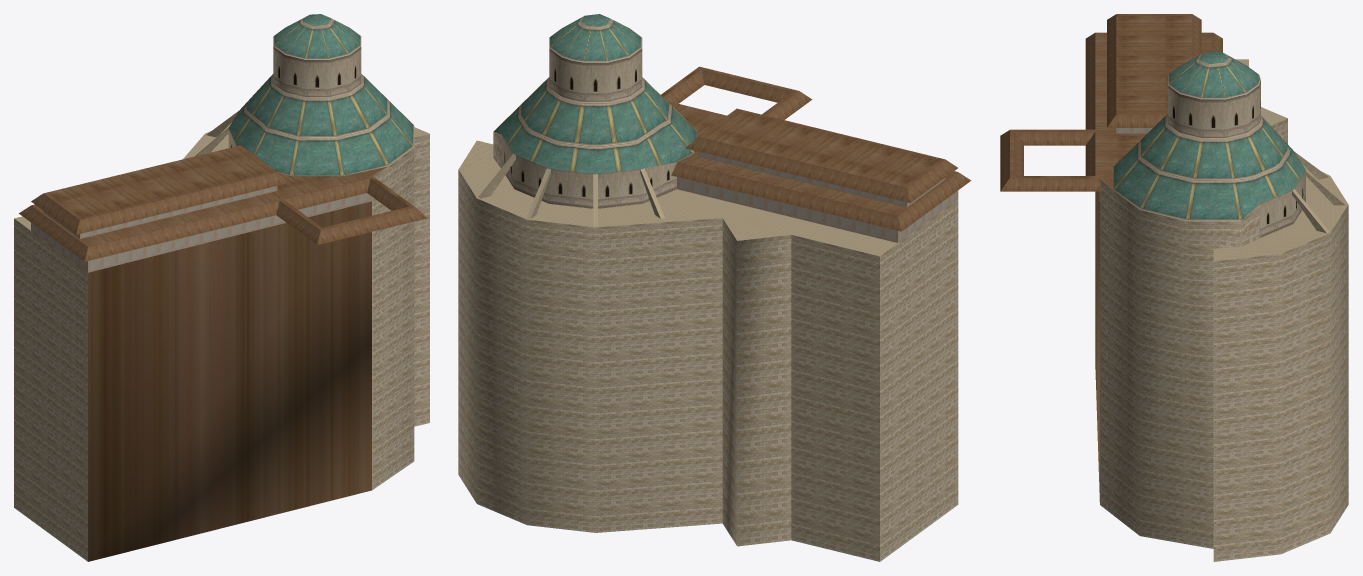
The model's file is thm_nboo_thed_emp_retreat_r0_mesh_l3.fbx.
The picture shows the model from 3 angles, left to right: view 1: azimuth 30°, elevation 25°; view 2: azimuth 150°, elevation 25°; view 3: azimuth 270°, elevation 25°; orthographic projection. The views are drawn at different scales.
Visible parts, largest first — view 1: mesh_node; view 2: mesh_node; view 3: mesh_node.
Boxes of the visible parts, x1,y1,x2,y2 form: mesh_node: (14, 14, 429, 561); mesh_node: (458, 14, 971, 561); mesh_node: (1000, 14, 1348, 561).
Size of the model in its own units: 103 by 104 by 73.5.
